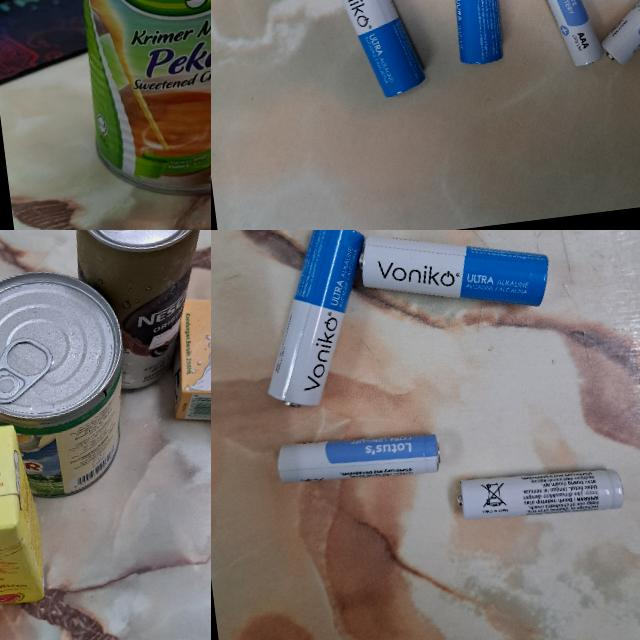aba de lata: (0, 336, 57, 407)
bateria: (244, 230, 384, 413), (355, 230, 553, 325), (452, 458, 626, 528), (272, 424, 443, 492), (322, 0, 426, 103), (525, 0, 605, 72), (440, 0, 509, 66), (591, 0, 640, 68)
caixinha: (0, 418, 50, 622), (163, 287, 211, 439)
lata: (0, 259, 140, 506), (50, 0, 211, 207), (63, 230, 211, 397)
